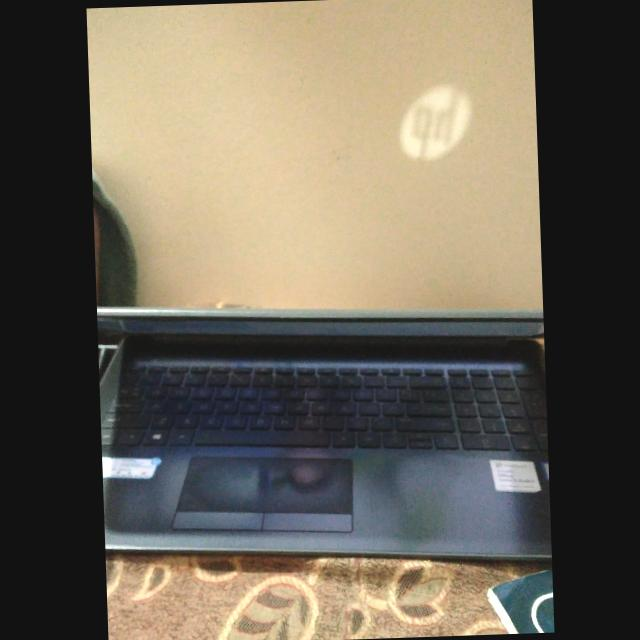laptop: (98, 272, 552, 578)
